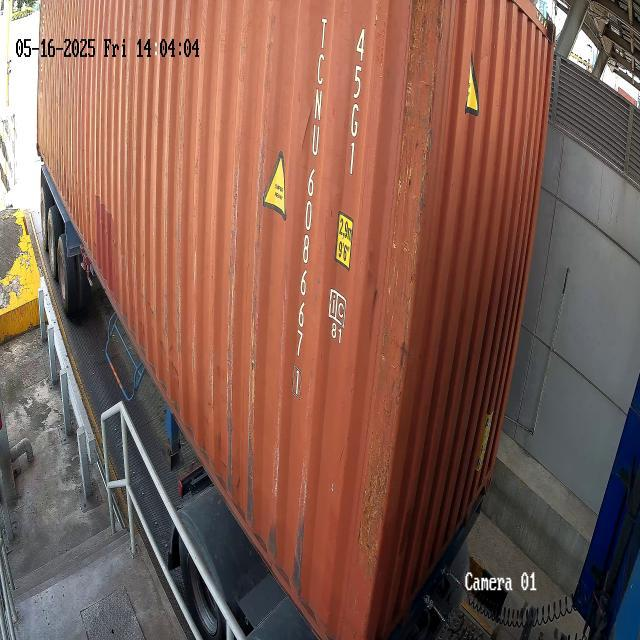ISO: (339, 13, 367, 186)
container_number: (280, 12, 332, 408)
